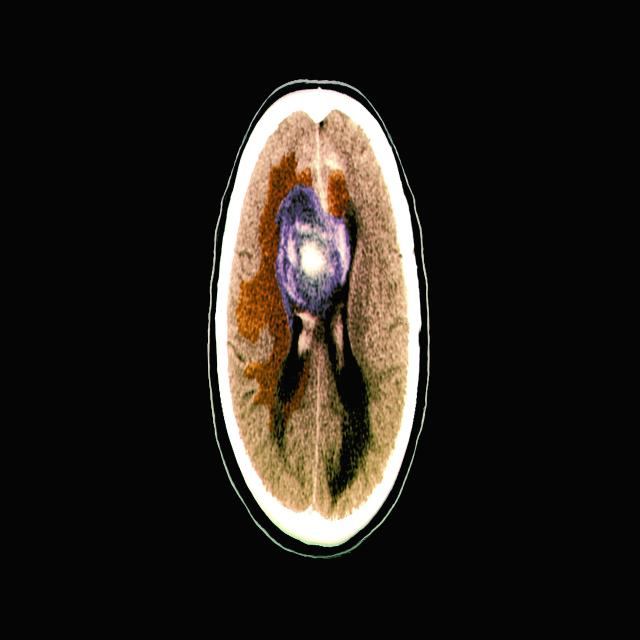Tumor: (276, 183, 356, 311)
